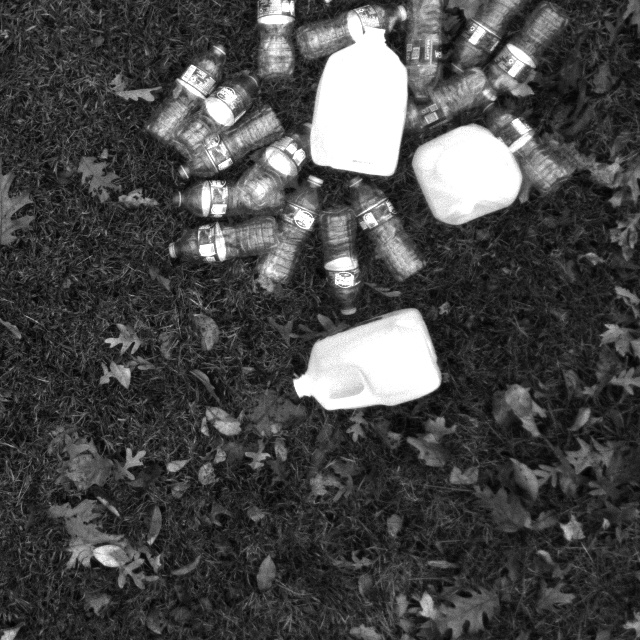bottle: (341, 181, 432, 281), (258, 162, 317, 304), (397, 57, 501, 137), (145, 45, 224, 149), (483, 0, 565, 100), (482, 118, 574, 204), (161, 75, 248, 164), (305, 190, 363, 323), (166, 167, 287, 230), (240, 121, 315, 211), (180, 111, 281, 174), (161, 216, 275, 271), (302, 7, 419, 56), (397, 0, 449, 109), (452, 0, 534, 66), (397, 76, 493, 131), (250, 0, 300, 87)
can: (297, 16, 410, 195), (284, 304, 453, 421), (404, 121, 527, 226)
